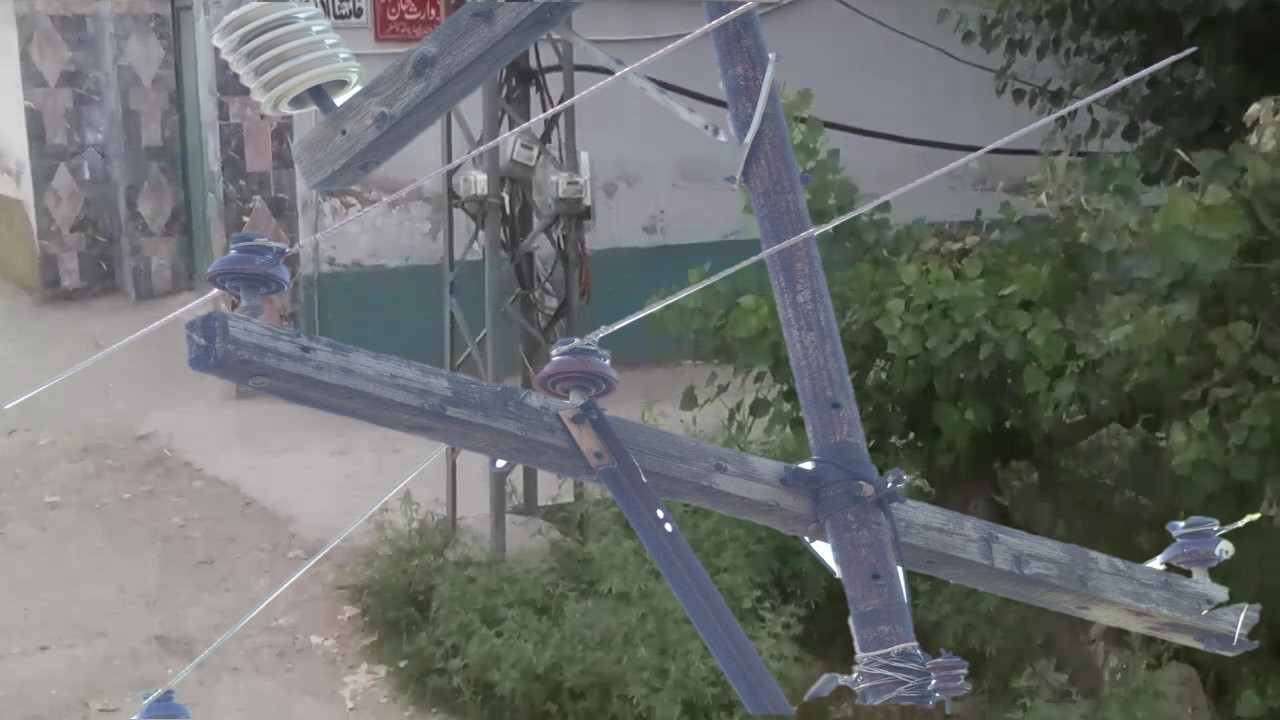defect_pin: (1153, 505, 1249, 578)
insulator_pin: (204, 226, 306, 303), (531, 333, 625, 404)
